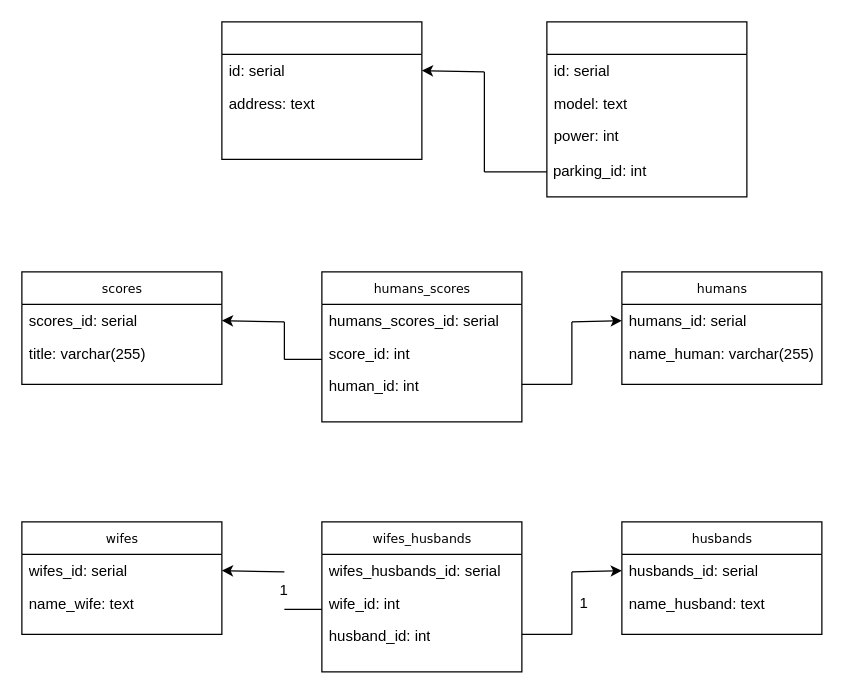
The diagram is 844 pixels wide and 694 high, and some of its shapes have lost their labels. The shapes that lost their labels are listed below. From the top down, each one's box as (x1, y1, x2, y2) in pixels, then its label:
(221, 21, 422, 159): parking
(546, 21, 747, 197): car_mazda
